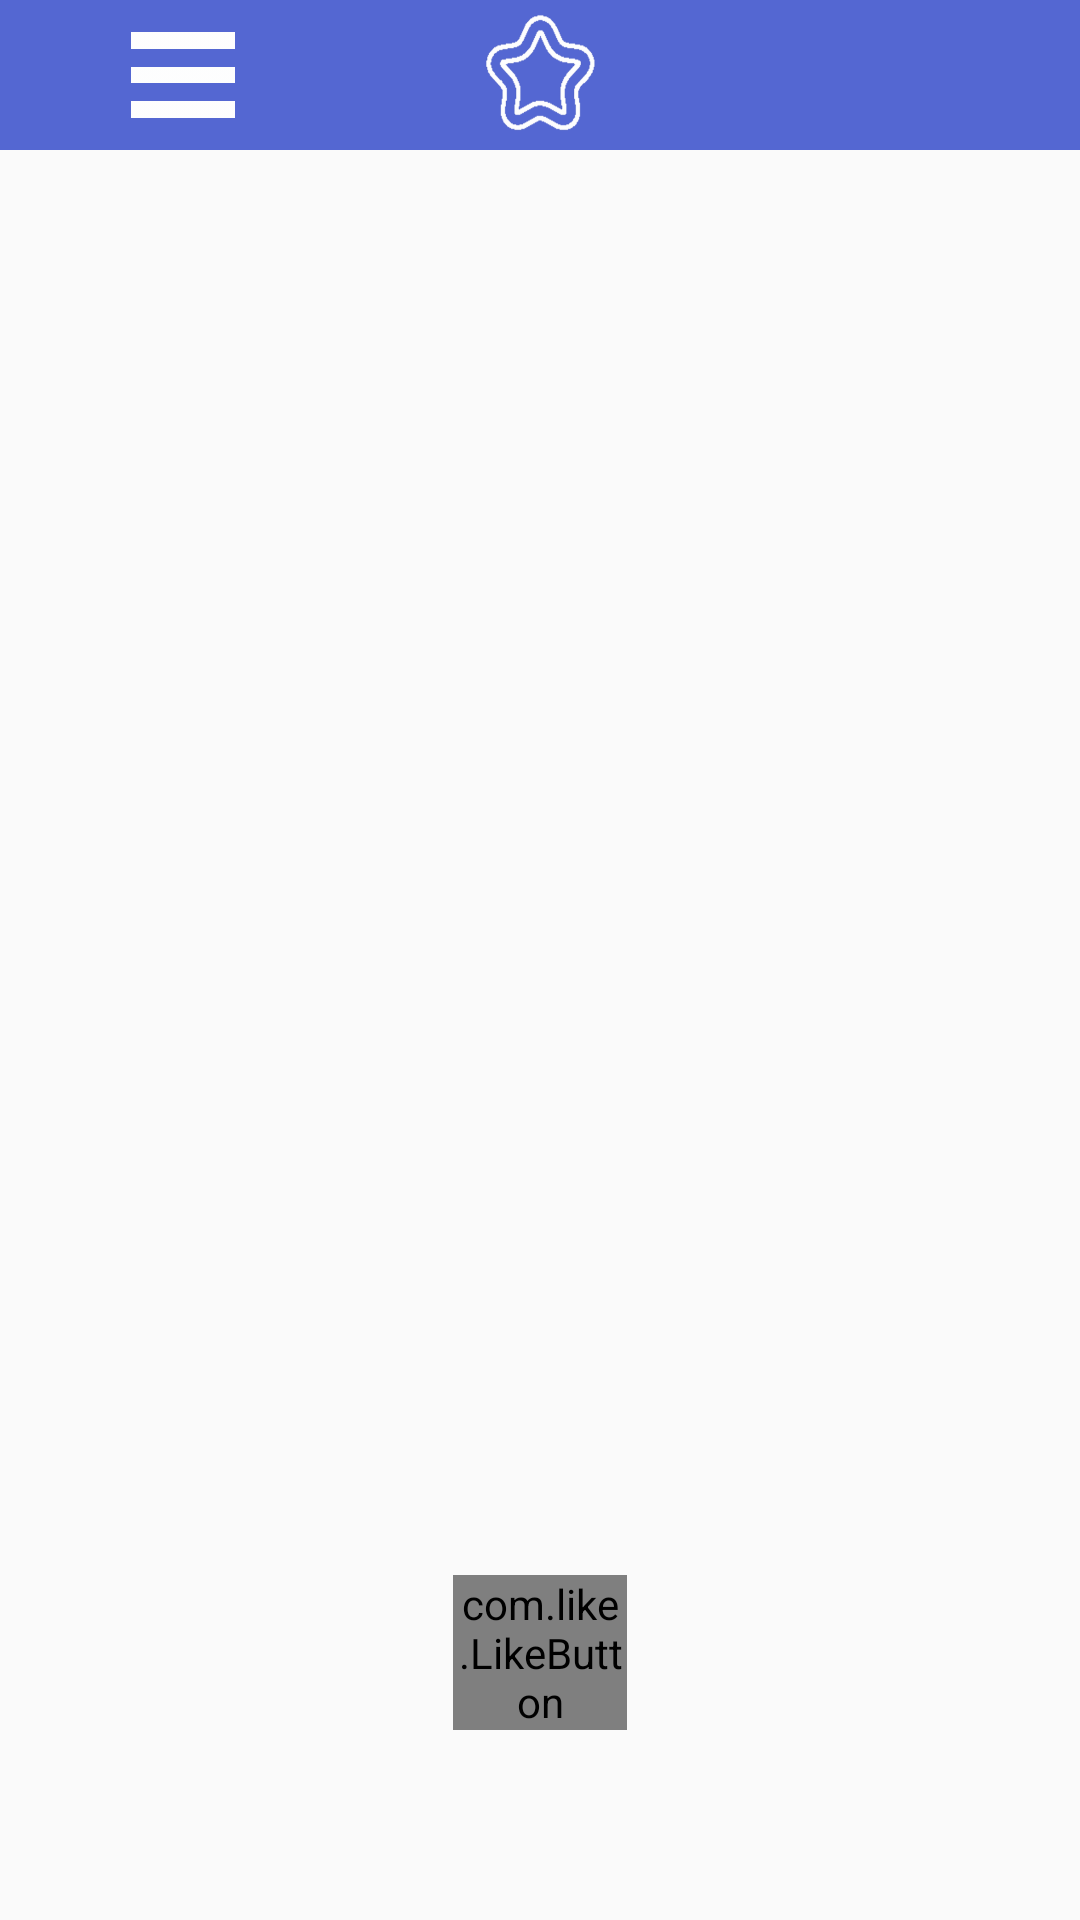

Where to tap for icons on this 1080 × 1920 app screen, as [x,y]:
favorites: [540,72]
menu: [183,75]
